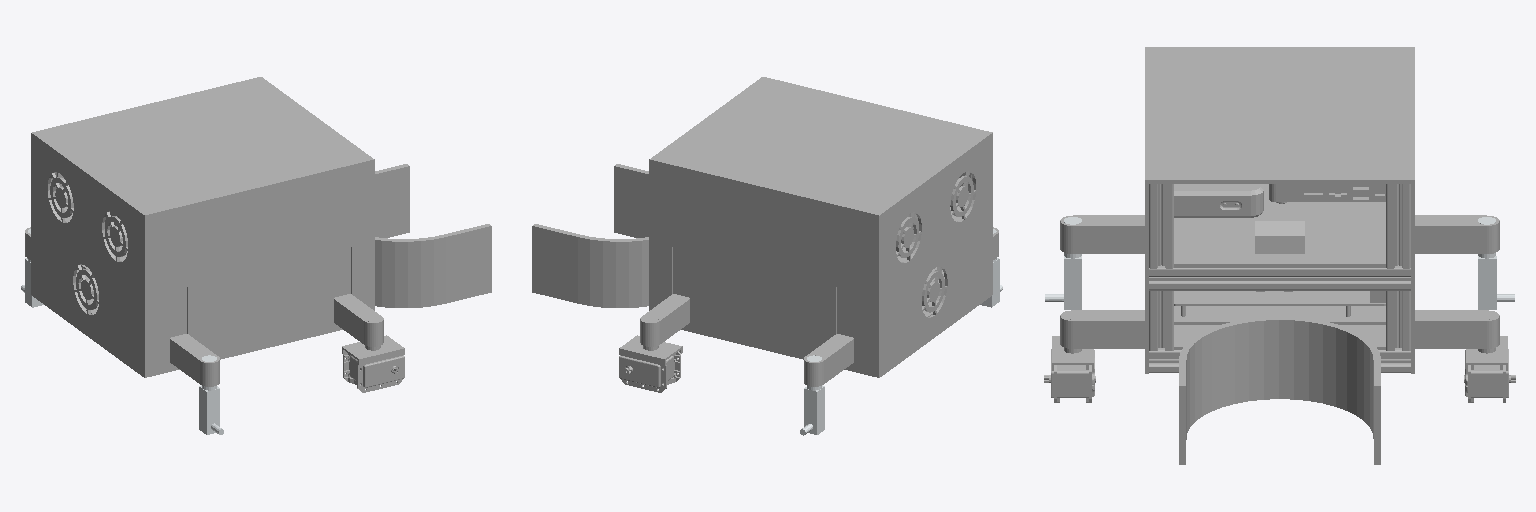
URDF robot description (05144):
<?xml version="1.0" encoding="utf-8"?>
<!-- This URDF was automatically created by SolidWorks to URDF Exporter! Originally created by [author] ([email redacted]) 
     Commit Version: 1.5.1-0-g916b5db  Build Version: 1.5.7152.31018
     For more information, please see http://wiki.ros.org/sw_urdf_exporter -->
<robot
  name="05144">
  <link
    name="Base">
    <inertial>
      <origin
        xyz="-0.142308649748716 0.108885138072049 0.0815546104060888"
        rpy="0 0 0" />
      <mass
        value="5.32485368404392" />
      <inertia
        ixx="0.0149047739356473"
        ixy="-1.47975231732828E-06"
        ixz="-7.80337094206553E-06"
        iyy="0.0219378727246539"
        iyz="-4.01751589933623E-06"
        izz="0.0232030208257597" />
    </inertial>
    <visual>
      <origin
        xyz="0 0 0"
        rpy="0 0 0" />
      <geometry>
        <mesh
          filename="package://05144/meshes/Base.STL" />
      </geometry>
      <material
        name="">
        <color
          rgba="0.752941176470588 0.752941176470588 0.752941176470588 1" />
      </material>
    </visual>
    <collision>
      <origin
        xyz="0 0 0"
        rpy="0 0 0" />
      <geometry>
        <mesh
          filename="package://05144/meshes/Base.STL" />
      </geometry>
    </collision>
  </link>
  <link
    name="LFS">
    <inertial>
      <origin
        xyz="0.0666875210853829 0.00348950989660696 -0.0643544912998069"
        rpy="0 0 0" />
      <mass
        value="0.26437001106022" />
      <inertia
        ixx="3.20746276473044E-05"
        ixy="-1.44118283518155E-07"
        ixz="-6.30853084354406E-08"
        iyy="6.22704126338821E-05"
        iyz="-2.01894652761254E-07"
        izz="6.28519936953906E-05" />
    </inertial>
    <visual>
      <origin
        xyz="0 0 0"
        rpy="0 0 0" />
      <geometry>
        <mesh
          filename="package://05144/meshes/LFS.STL" />
      </geometry>
      <material
        name="">
        <color
          rgba="0.752941176470588 0.752941176470588 0.752941176470588 1" />
      </material>
    </visual>
    <collision>
      <origin
        xyz="0 0 0"
        rpy="0 0 0" />
      <geometry>
        <mesh
          filename="package://05144/meshes/LFS.STL" />
      </geometry>
    </collision>
  </link>
  <joint
    name="LFS"
    type="prismatic">
    <origin
      xyz="-0.0508115623588095 0.315160991135077 -0.0467006291026886"
      rpy="2.8339623757072 0 -1.5707963267949" />
    <parent
      link="Base" />
    <child
      link="LFS" />
    <axis
      xyz="0 0.302801016091279 -0.953053799454201" />
    <limit
      lower="0"
      upper="0"
      effort="0"
      velocity="0" />
  </joint>
  <link
    name="LFW">
    <inertial>
      <origin
        xyz="-0.012315724574073 0 0"
        rpy="0 0 0" />
      <mass
        value="0.193585420779862" />
      <inertia
        ixx="0.000253081141332254"
        ixy="-5.88092833198904E-37"
        ixz="5.1845054750851E-21"
        iyy="0.000136818598566517"
        iyz="7.17557753438369E-37"
        izz="0.000136818598566517" />
    </inertial>
    <visual>
      <origin
        xyz="0 0 0"
        rpy="0 0 0" />
      <geometry>
        <mesh
          filename="package://05144/meshes/LFW.STL" />
      </geometry>
      <material
        name="">
        <color
          rgba="1 1 1 1" />
      </material>
    </visual>
    <collision>
      <origin
        xyz="0 0 0"
        rpy="0 0 0" />
      <geometry>
        <mesh
          filename="package://05144/meshes/LFW.STL" />
      </geometry>
    </collision>
  </link>
  <joint
    name="LFW"
    type="continuous">
    <origin
      xyz="0.000410991135076727 -0.0183719909934959 -0.0393036928458786"
      rpy="-1.87071350905913 0 3.14159265358979" />
    <parent
      link="LFS" />
    <child
      link="LFW" />
    <axis
      xyz="1 0 0" />
    <limit
      effort="3.1"
      velocity="7" />
  </joint>
  <link
    name="RFS">
    <inertial>
      <origin
        xyz="0.0724473276378515 -0.00248083053559417 -0.0665731861852051"
        rpy="0 0 0" />
      <mass
        value="0.264370011060221" />
      <inertia
        ixx="3.20746276473045E-05"
        ixy="1.44118283518171E-07"
        ixz="6.30853084354422E-08"
        iyy="6.22704126338823E-05"
        iyz="-2.01894652761264E-07"
        izz="6.28519936953909E-05" />
    </inertial>
    <visual>
      <origin
        xyz="0 0 0"
        rpy="0 0 0" />
      <geometry>
        <mesh
          filename="package://05144/meshes/RFS.STL" />
      </geometry>
      <material
        name="">
        <color
          rgba="0.752941176470588 0.752941176470588 0.752941176470588 1" />
      </material>
    </visual>
    <collision>
      <origin
        xyz="0 0 0"
        rpy="0 0 0" />
      <geometry>
        <mesh
          filename="package://05144/meshes/RFS.STL" />
      </geometry>
    </collision>
  </link>
  <joint
    name="RFS"
    type="prismatic">
    <origin
      xyz="-0.012128 -0.10492 -0.047016"
      rpy="2.834 0 1.5708" />
    <parent
      link="Base" />
    <child
      link="RFS" />
    <axis
      xyz="0 0.3028 -0.95305" />
    <limit
      lower="0"
      upper="0"
      effort="0"
      velocity="0" />
  </joint>
  <link
    name="RFW">
    <inertial>
      <origin
        xyz="-0.0123157245740731 0 1.38777878078145E-17"
        rpy="0 0 0" />
      <mass
        value="0.193585420779862" />
      <inertia
        ixx="0.000253081141332254"
        ixy="-1.23497249055924E-21"
        ixz="2.07163812308337E-21"
        iyy="0.000136818598566517"
        iyz="3.3881317890172E-21"
        izz="0.000136818598566517" />
    </inertial>
    <visual>
      <origin
        xyz="0 0 0"
        rpy="0 0 0" />
      <geometry>
        <mesh
          filename="package://05144/meshes/RFW.STL" />
      </geometry>
      <material
        name="">
        <color
          rgba="1 1 1 1" />
      </material>
    </visual>
    <collision>
      <origin
        xyz="0 0 0"
        rpy="0 0 0" />
      <geometry>
        <mesh
          filename="package://05144/meshes/RFW.STL" />
      </geometry>
    </collision>
  </link>
  <joint
    name="RFW"
    type="continuous">
    <origin
      xyz="0.0061708 0.00091629 -0.033508"
      rpy="-0.70714 0 3.1416" />
    <parent
      link="RFS" />
    <child
      link="RFW" />
    <axis
      xyz="1 0 0" />
    <limit
      effort="3.1"
      velocity="7" />
  </joint>
  <link
    name="LBS">
    <inertial>
      <origin
        xyz="0.0754022136877308 -0.00959516940601612 -0.0220143953841323"
        rpy="0 0 0" />
      <mass
        value="0.197009126147877" />
      <inertia
        ixx="1.68802738687173E-05"
        ixy="-1.14063956560669E-21"
        ixz="2.10922778942881E-20"
        iyy="5.0218488566757E-05"
        iyz="1.0508875929185E-06"
        izz="4.72447473350487E-05" />
    </inertial>
    <visual>
      <origin
        xyz="0 0 0"
        rpy="0 0 0" />
      <geometry>
        <mesh
          filename="package://05144/meshes/LBS.STL" />
      </geometry>
      <material
        name="">
        <color
          rgba="0.752941176470588 0.752941176470588 0.752941176470588 1" />
      </material>
    </visual>
    <collision>
      <origin
        xyz="0 0 0"
        rpy="0 0 0" />
      <geometry>
        <mesh
          filename="package://05144/meshes/LBS.STL" />
      </geometry>
    </collision>
  </link>
  <joint
    name="LBS"
    type="prismatic">
    <origin
      xyz="-0.23081 0.31516 0.0044202"
      rpy="2.834 0 -1.5708" />
    <parent
      link="Base" />
    <child
      link="LBS" />
    <axis
      xyz="0 0.3028 -0.95305" />
    <limit
      lower="0"
      upper="0"
      effort="0"
      velocity="0" />
  </joint>
  <link
    name="LBC">
    <inertial>
      <origin
        xyz="0.000464526735875104 -0.0102558391455497 0"
        rpy="0 0 0" />
      <mass
        value="0.043396245960262" />
      <inertia
        ixx="2.1180042472488E-05"
        ixy="5.53822046363834E-07"
        ixz="1.78671012311454E-22"
        iyy="1.76453344713605E-06"
        iyz="-2.2009621738811E-20"
        izz="2.14947085785555E-05" />
    </inertial>
    <visual>
      <origin
        xyz="0 0 0"
        rpy="0 0 0" />
      <geometry>
        <mesh
          filename="package://05144/meshes/LBC.STL" />
      </geometry>
      <material
        name="">
        <color
          rgba="0.898039215686275 0.917647058823529 0.929411764705882 1" />
      </material>
    </visual>
    <collision>
      <origin
        xyz="0 0 0"
        rpy="0 0 0" />
      <geometry>
        <mesh
          filename="package://05144/meshes/LBC.STL" />
      </geometry>
    </collision>
  </link>
  <joint
    name="LBC"
    type="continuous">
    <origin
      xyz="0.0411609911350767 -0.0150684419408271 -0.00478749419309586"
      rpy="-1.87842355251803 -0.00139263512405294 3.13720937469085" />
    <parent
      link="LBS" />
    <child
      link="LBC" />
    <axis
      xyz="0 1 0" />
  </joint>
  <link
    name="LBW">
    <inertial>
      <origin
        xyz="0.00647268691618069 1.38777878078145E-17 2.77555756156289E-17"
        rpy="0 0 0" />
      <mass
        value="0.0368891747697499" />
      <inertia
        ixx="1.67269024516251E-05"
        ixy="1.7292210705421E-21"
        ixz="-4.76786905075565E-21"
        iyy="8.8792623904253E-06"
        iyz="2.11758236813575E-22"
        izz="8.8792623904253E-06" />
    </inertial>
    <visual>
      <origin
        xyz="0 0 0"
        rpy="0 0 0" />
      <geometry>
        <mesh
          filename="package://05144/meshes/LBW.STL" />
      </geometry>
      <material
        name="">
        <color
          rgba="1 1 1 1" />
      </material>
    </visual>
    <collision>
      <origin
        xyz="0 0 0"
        rpy="0 0 0" />
      <geometry>
        <mesh
          filename="package://05144/meshes/LBW.STL" />
      </geometry>
    </collision>
  </link>
  <joint
    name="LBW"
    type="continuous">
    <origin
      xyz="0.00950064641853865 -0.037728919922878 0"
      rpy="-2.95846759930151 0 0" />
    <parent
      link="LBC" />
    <child
      link="LBW" />
    <axis
      xyz="1 0 0" />
    <limit
      effort="3.1"
      velocity="7" />
  </joint>
  <link
    name="RBS">
    <inertial>
      <origin
        xyz="0.0754022136877308 -0.00955739367510416 -0.0221332929503895"
        rpy="0 0 0" />
      <mass
        value="0.197009126147877" />
      <inertia
        ixx="1.68802738687173E-05"
        ixy="-2.46171681703945E-21"
        ixz="6.52693688329589E-22"
        iyy="5.0218488566757E-05"
        iyz="1.05088759291849E-06"
        izz="4.72447473350487E-05" />
    </inertial>
    <visual>
      <origin
        xyz="0 0 0"
        rpy="0 0 0" />
      <geometry>
        <mesh
          filename="package://05144/meshes/RBS.STL" />
      </geometry>
      <material
        name="">
        <color
          rgba="0.752941176470588 0.752941176470588 0.752941176470588 1" />
      </material>
    </visual>
    <collision>
      <origin
        xyz="0 0 0"
        rpy="0 0 0" />
      <geometry>
        <mesh
          filename="package://05144/meshes/RBS.STL" />
      </geometry>
    </collision>
  </link>
  <joint
    name="RBS"
    type="prismatic">
    <origin
      xyz="-0.19919 -0.099161 0.0042954"
      rpy="2.834 0 1.5708" />
    <parent
      link="Base" />
    <child
      link="RBS" />
    <axis
      xyz="0 0.3028 -0.95305" />
    <limit
      lower="0"
      upper="0"
      effort="0"
      velocity="0" />
  </joint>
  <link
    name="RBC">
    <inertial>
      <origin
        xyz="0.000464526735875104 -0.0101310848385787 2.77555756156289E-17"
        rpy="0 0 0" />
      <mass
        value="0.0433962459602619" />
      <inertia
        ixx="2.11800424724879E-05"
        ixy="5.53822046363849E-07"
        ixz="-4.64078919382898E-22"
        iyy="1.76453344713605E-06"
        iyz="2.0949176193518E-20"
        izz="2.14947085785555E-05" />
    </inertial>
    <visual>
      <origin
        xyz="0 0 0"
        rpy="0 0 0" />
      <geometry>
        <mesh
          filename="package://05144/meshes/RBC.STL" />
      </geometry>
      <material
        name="">
        <color
          rgba="0.898039215686275 0.917647058823529 0.929411764705882 1" />
      </material>
    </visual>
    <collision>
      <origin
        xyz="0 0 0"
        rpy="0 0 0" />
      <geometry>
        <mesh
          filename="package://05144/meshes/RBC.STL" />
      </geometry>
    </collision>
  </link>
  <joint
    name="RBC"
    type="continuous">
    <origin
      xyz="0.0411609911350767 -0.0150684419408278 -0.00478749419309604"
      rpy="-1.87842660467749 0 3.14159265358979" />
    <parent
      link="RBS" />
    <child
      link="RBC" />
    <axis
      xyz="0 1 0" />
  </joint>
  <link
    name="RBW">
    <inertial>
      <origin
        xyz="0.00647333333471939 -2.77555756156289E-17 1.38777878078145E-17"
        rpy="0 0 0" />
      <mass
        value="0.0368891747697499" />
      <inertia
        ixx="1.67269024516251E-05"
        ixy="-2.22678152353162E-21"
        ixz="-4.57890503447017E-22"
        iyy="8.87926239042531E-06"
        iyz="0"
        izz="8.8792623904253E-06" />
    </inertial>
    <visual>
      <origin
        xyz="0 0 0"
        rpy="0 0 0" />
      <geometry>
        <mesh
          filename="package://05144/meshes/RBW.STL" />
      </geometry>
      <material
        name="">
        <color
          rgba="1 1 1 1" />
      </material>
    </visual>
    <collision>
      <origin
        xyz="0 0 0"
        rpy="0 0 0" />
      <geometry>
        <mesh
          filename="package://05144/meshes/RBW.STL" />
      </geometry>
    </collision>
  </link>
  <joint
    name="RBW"
    type="continuous">
    <origin
      xyz="0.00949999999999995 -0.0376041656159069 0"
      rpy="0.983654154638768 0 0" />
    <parent
      link="RBC" />
    <child
      link="RBW" />
    <axis
      xyz="1 0 0" />
    <limit
      effort="3.1"
      velocity="7" />
  </joint>
  <link
    name="Lidar">
    <inertial>
      <origin
        xyz="-0.0784930236720806 0.744427434110801 0.133449662205116"
        rpy="0 0 0" />
      <mass
        value="0.0730845741838002" />
      <inertia
        ixx="1.9580876083019E-05"
        ixy="-4.28391161226819E-07"
        ixz="1.03933621130234E-07"
        iyy="4.14184522502777E-05"
        iyz="-9.42743593249038E-09"
        izz="2.41250083307634E-05" />
    </inertial>
    <visual>
      <origin
        xyz="0 0 0"
        rpy="0 0 0" />
      <geometry>
        <mesh
          filename="package://05144/meshes/Lidar.STL" />
      </geometry>
      <material
        name="">
        <color
          rgba="0.792156862745098 0.819607843137255 0.933333333333333 1" />
      </material>
    </visual>
    <collision>
      <origin
        xyz="0 0 0"
        rpy="0 0 0" />
      <geometry>
        <mesh
          filename="package://05144/meshes/Lidar.STL" />
      </geometry>
    </collision>
  </link>
  <joint
    name="Lidar"
    type="fixed">
    <origin
      xyz="-0.098561 0.24092 -0.5487"
      rpy="1.5708 0 0" />
    <parent
      link="Base" />
    <child
      link="Lidar" />
    <axis
      xyz="0 0 0" />
  </joint>
  <link
    name="Front_Cam">
    <inertial>
      <origin
        xyz="0.0498359970771496 0.061783635914709 0.0687226592339399"
        rpy="0 0 0" />
      <mass
        value="0.0436119948521297" />
      <inertia
        ixx="4.2947913749771E-06"
        ixy="-8.85886294504935E-10"
        ixz="-1.01812872210218E-09"
        iyy="2.21058139310684E-05"
        iyz="2.17578140553955E-08"
        izz="2.35707056576044E-05" />
    </inertial>
    <visual>
      <origin
        xyz="0 0 0"
        rpy="0 0 0" />
      <geometry>
        <mesh
          filename="package://05144/meshes/Front_Cam.STL" />
      </geometry>
      <material
        name="">
        <color
          rgba="0.792156862745098 0.819607843137255 0.933333333333333 1" />
      </material>
    </visual>
    <collision>
      <origin
        xyz="0 0 0"
        rpy="0 0 0" />
      <geometry>
        <mesh
          filename="package://05144/meshes/Front_Cam.STL" />
      </geometry>
    </collision>
  </link>
  <joint
    name="Front_Cam"
    type="fixed">
    <origin
      xyz="-0.080278 0.058161 0.092502"
      rpy="1.5708 0 1.5708" />
    <parent
      link="Base" />
    <child
      link="Front_Cam" />
    <axis
      xyz="0 0 0" />
  </joint>
  <link
    name="Ball_cam">
    <inertial>
      <origin
        xyz="0.0498359969056821 0.0617836349793441 0.068722659562668"
        rpy="0 0 0" />
      <mass
        value="0.043611995173567" />
      <inertia
        ixx="4.29479052042009E-06"
        ixy="-8.85250523894349E-10"
        ixz="-1.01843894196781E-09"
        iyy="2.21058148306724E-05"
        iyz="2.17581061750722E-08"
        izz="2.35707057120248E-05" />
    </inertial>
    <visual>
      <origin
        xyz="0 0 0"
        rpy="0 0 0" />
      <geometry>
        <mesh
          filename="package://05144/meshes/Ball_cam.STL" />
      </geometry>
      <material
        name="">
        <color
          rgba="0.792156862745098 0.819607843137255 0.933333333333333 1" />
      </material>
    </visual>
    <collision>
      <origin
        xyz="0 0 0"
        rpy="0 0 0" />
      <geometry>
        <mesh
          filename="package://05144/meshes/Ball_cam.STL" />
      </geometry>
    </collision>
  </link>
  <joint
    name="Ball_cam"
    type="fixed">
    <origin
      xyz="-0.101690797714348 0.0579934881168203 0.10583711644311"
      rpy="2.20211757959882 0 1.5707963267949" />
    <parent
      link="Base" />
    <child
      link="Ball_cam" />
    <axis
      xyz="0 0 0" />
  </joint>
</robot>

--- Render facts (derived) ---
Views: 3 orthographic renders of the robot side by side, from view 1: azimuth 30°, elevation 25°; view 2: azimuth 150°, elevation 25°; view 3: azimuth 270°, elevation 25°.
Robot: 05144 — 14 links, 13 joints (6 continuous, 4 prismatic, 3 fixed); root link Base; default pose: all joints at 0.
Visible links, largest first — view 1: Base, RFS, RBS, RBC; view 2: Base, LFS, LBS, LBC; view 3: Base, RFS, LFS, LBS, RBS, LBC, RBC.
Link boxes in pixels (bbox=[...]): Base: bbox=[31, 77, 491, 377]; RFS: bbox=[334, 294, 404, 392]; RBS: bbox=[170, 334, 219, 386]; RBC: bbox=[199, 355, 223, 434]; Base: bbox=[532, 77, 992, 377]; LFS: bbox=[619, 294, 689, 392]; LBS: bbox=[804, 334, 853, 386]; LBC: bbox=[800, 355, 824, 435]; Base: bbox=[1145, 47, 1414, 464]; RFS: bbox=[1044, 310, 1144, 402]; LFS: bbox=[1415, 310, 1515, 402]; LBS: bbox=[1415, 215, 1499, 253]; RBS: bbox=[1060, 215, 1144, 253]; LBC: bbox=[1478, 217, 1514, 309]; RBC: bbox=[1045, 217, 1081, 309].
Size in the robot's own frame: 0.3973 by 0.3775 by 0.2117 metres.
Meshes: 14 distinct files referenced, 7 mesh visuals loaded (7 binary STL); not drawn: 7 (reference not matched to a file when rendering).